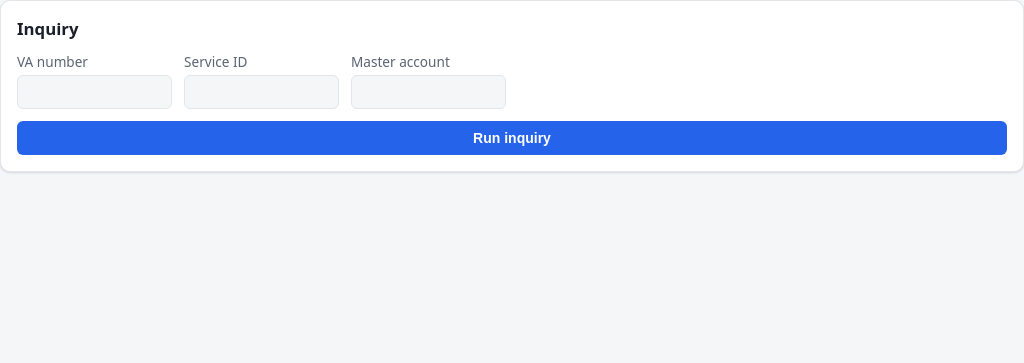
Test: InquiryPanel › shows the QA-001 ambiguity note when the VA is not payable or unknown
Type "VA999" into the field labelled "VA number" at (94, 92), box [17,75,172,109]
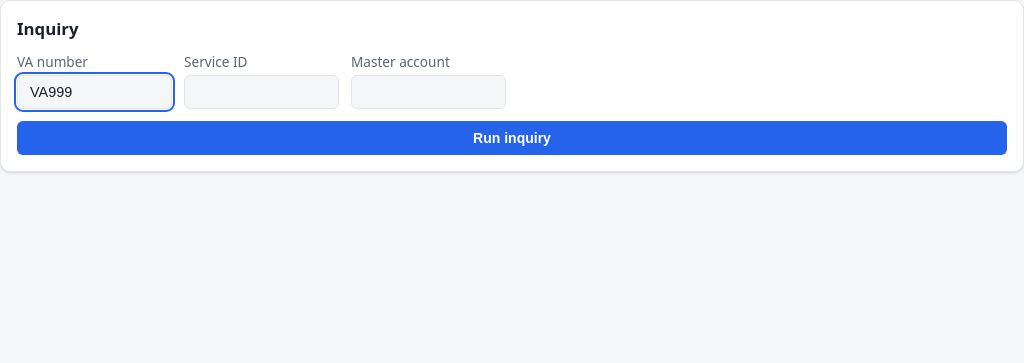
Click the button "Run inquiry" at (512, 138), box [17,121,1007,155]
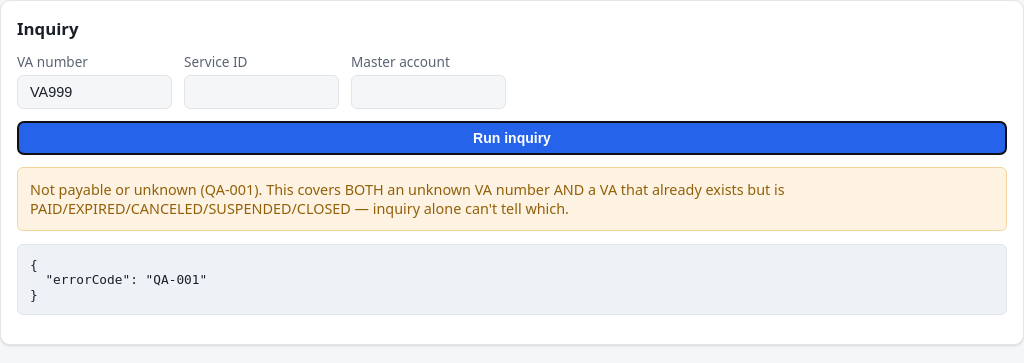
Expected: the text with test id "inquiry-summary" shows "QA-001", [30,180,785,218]
Expected: the text with test id "inquiry-summary" shows "can't tell which", [30,180,785,218]
